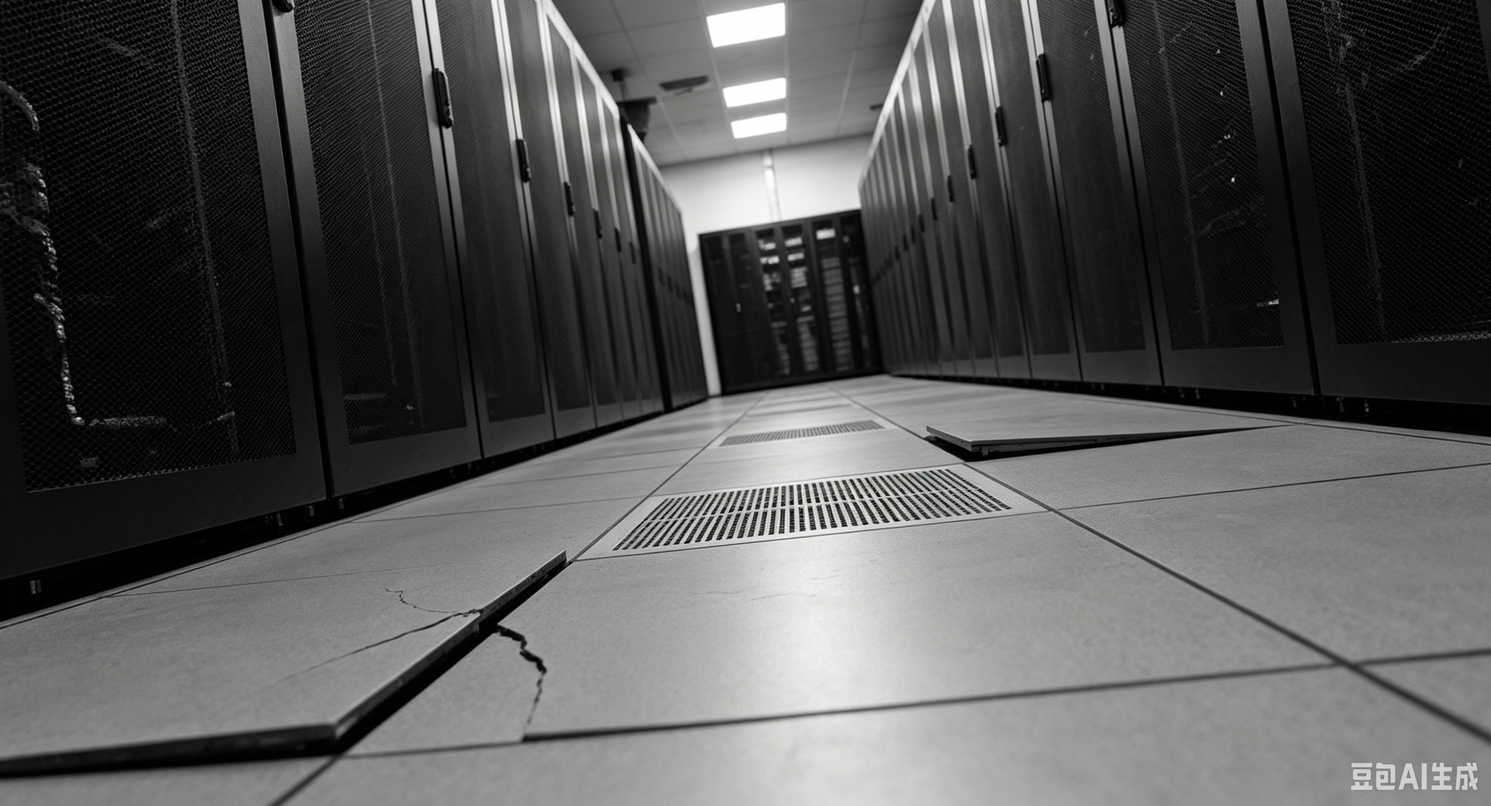floor_defect: (909, 409, 1295, 475), (1, 720, 403, 777), (336, 628, 485, 724), (491, 619, 593, 755), (379, 567, 488, 637), (482, 534, 572, 613)
